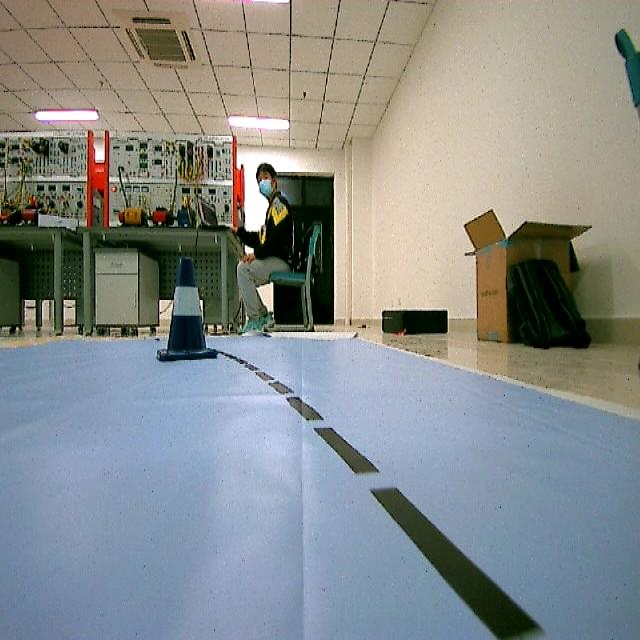obstacle: (153, 254, 217, 360)
